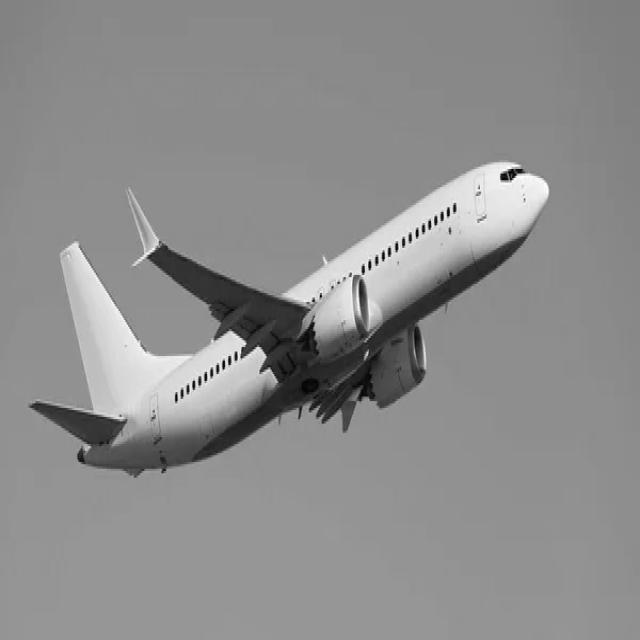Aircraft: (28, 151, 552, 490)
